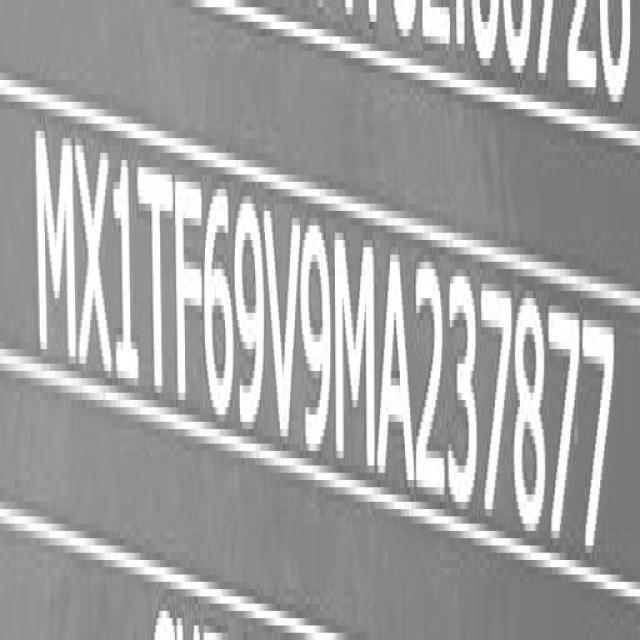1: (115, 143, 138, 401)
2: (418, 255, 447, 513)
3: (446, 264, 481, 526)
6: (205, 171, 235, 428)
7: (586, 308, 619, 581), (549, 298, 579, 566), (481, 267, 510, 534)
8: (516, 286, 547, 545)
9: (302, 208, 332, 466), (237, 190, 266, 447)
A: (380, 242, 415, 499)
F: (176, 167, 205, 424)
M: (32, 113, 78, 382), (332, 212, 378, 480)
T: (138, 143, 175, 417)
V: (268, 196, 302, 460)
X: (77, 135, 113, 389)
